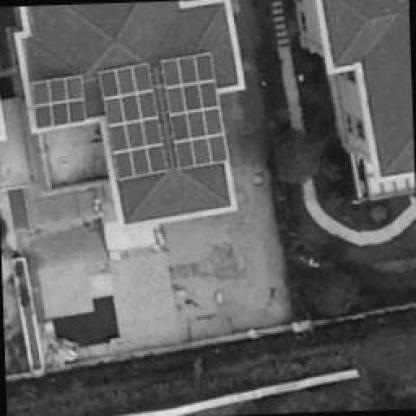solar-pv-panel: (99, 63, 167, 180), (161, 53, 228, 169), (31, 75, 86, 129)
